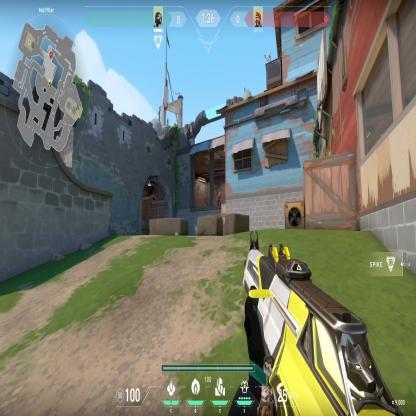enemy: (216, 188, 222, 205)
